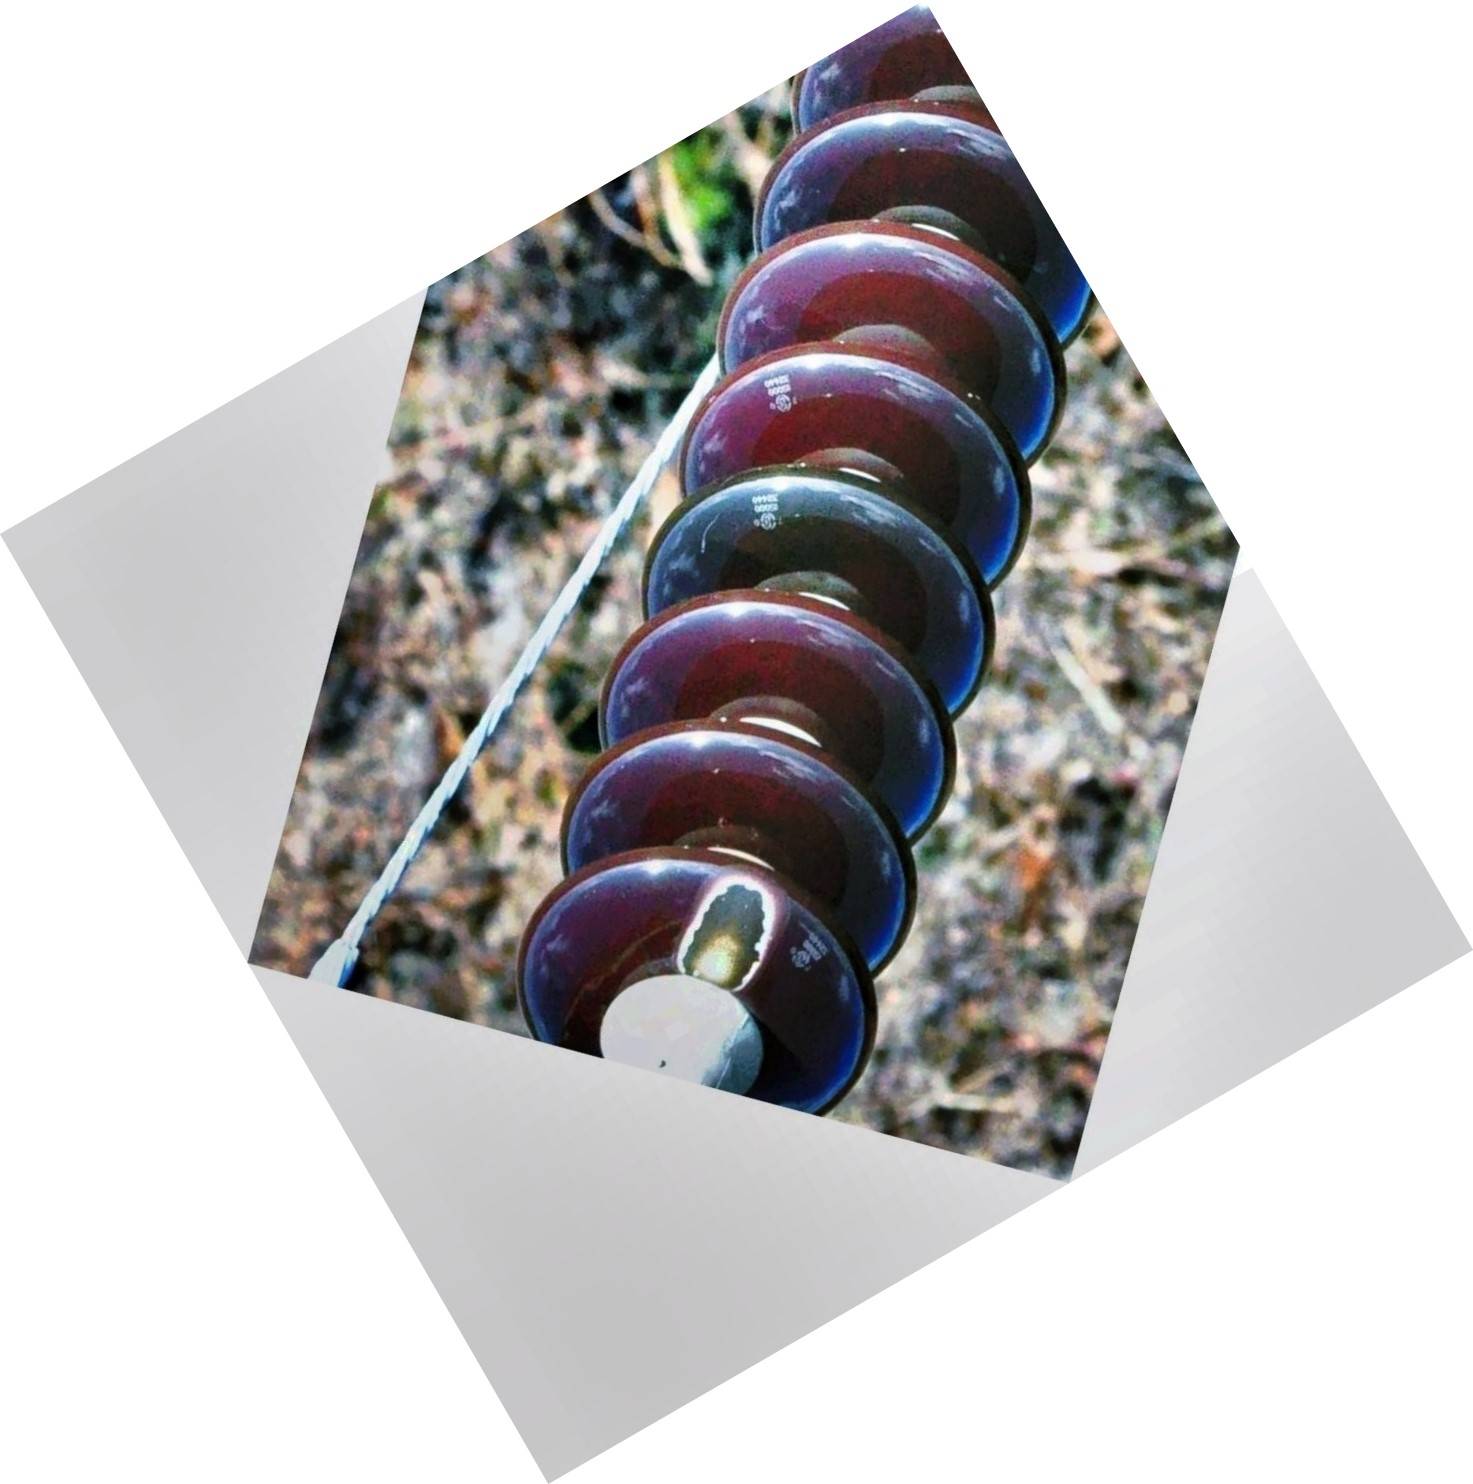Insulator flashover: (500, 832, 882, 1122)
